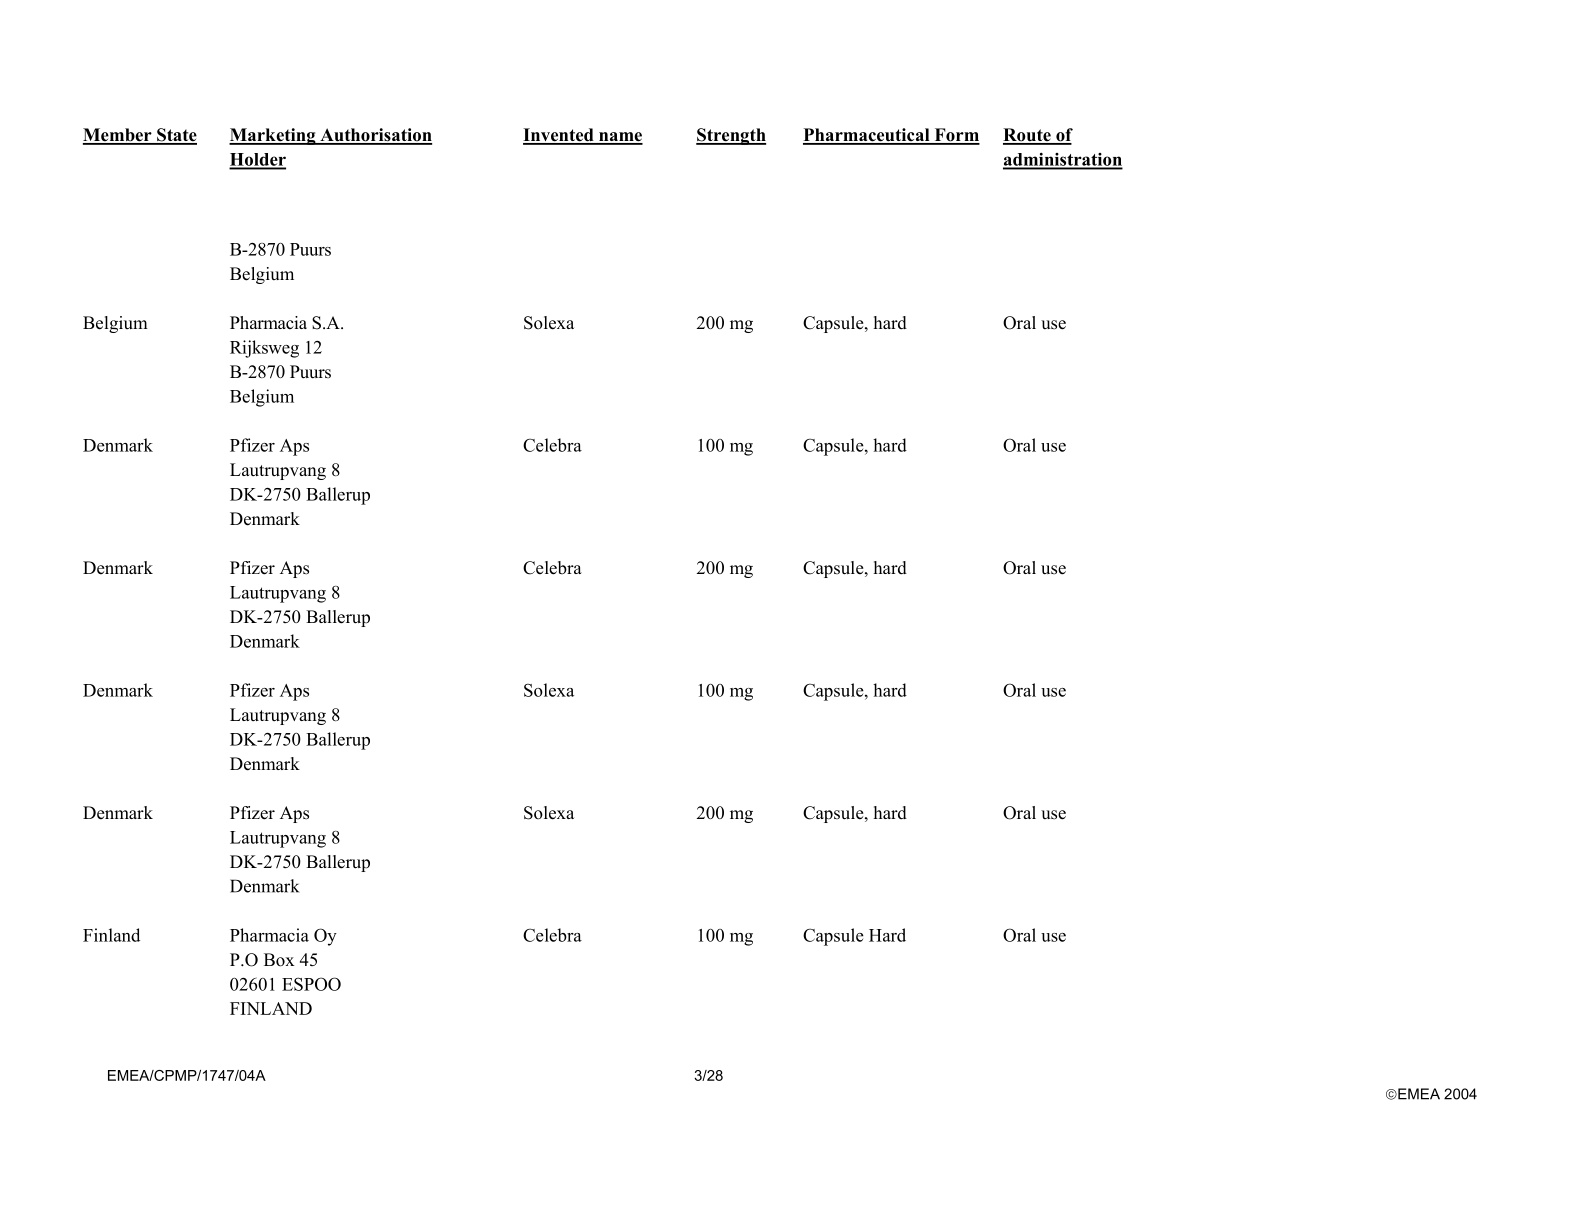nolines: (76, 123, 1130, 1020)
